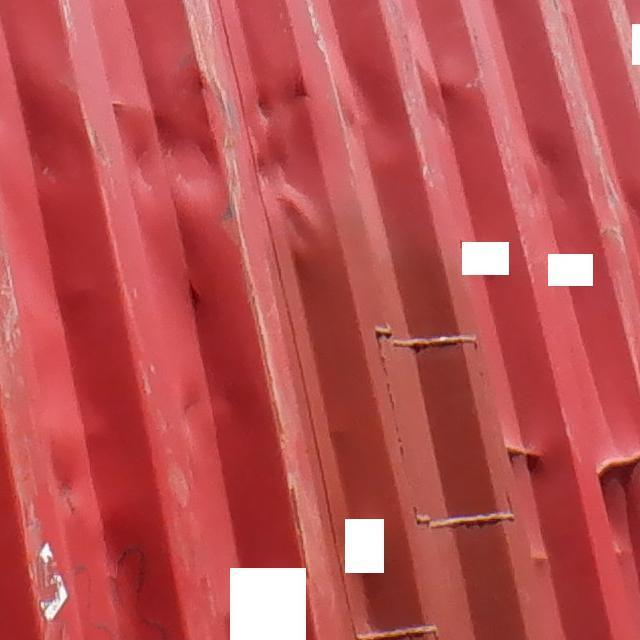dent: (98, 65, 435, 260)
